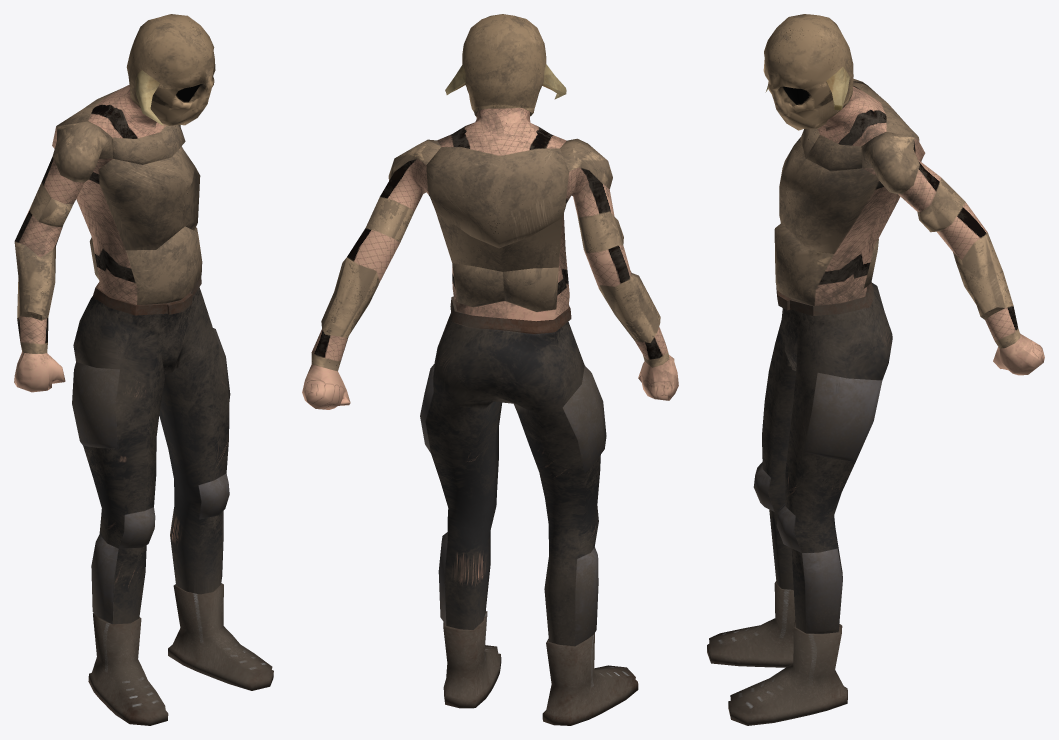
The model's file is Anim_recibirdanyo_npc1.0029.obj.
3 views of the same model, side by side, from view 1: azimuth 30°, elevation 25°; view 2: azimuth 150°, elevation 25°; view 3: azimuth 270°, elevation 25° (orthographic). The views are drawn at different scales.
Visible parts, largest first — view 1: NPC2; view 2: NPC2; view 3: NPC2.
Boxes of the visible parts, x1,y1,x2,y2 form: NPC2: (14, 14, 273, 725); NPC2: (302, 14, 678, 725); NPC2: (707, 14, 1044, 725).
Size of the model in its own units: 3.69 by 9.42 by 4.29.
